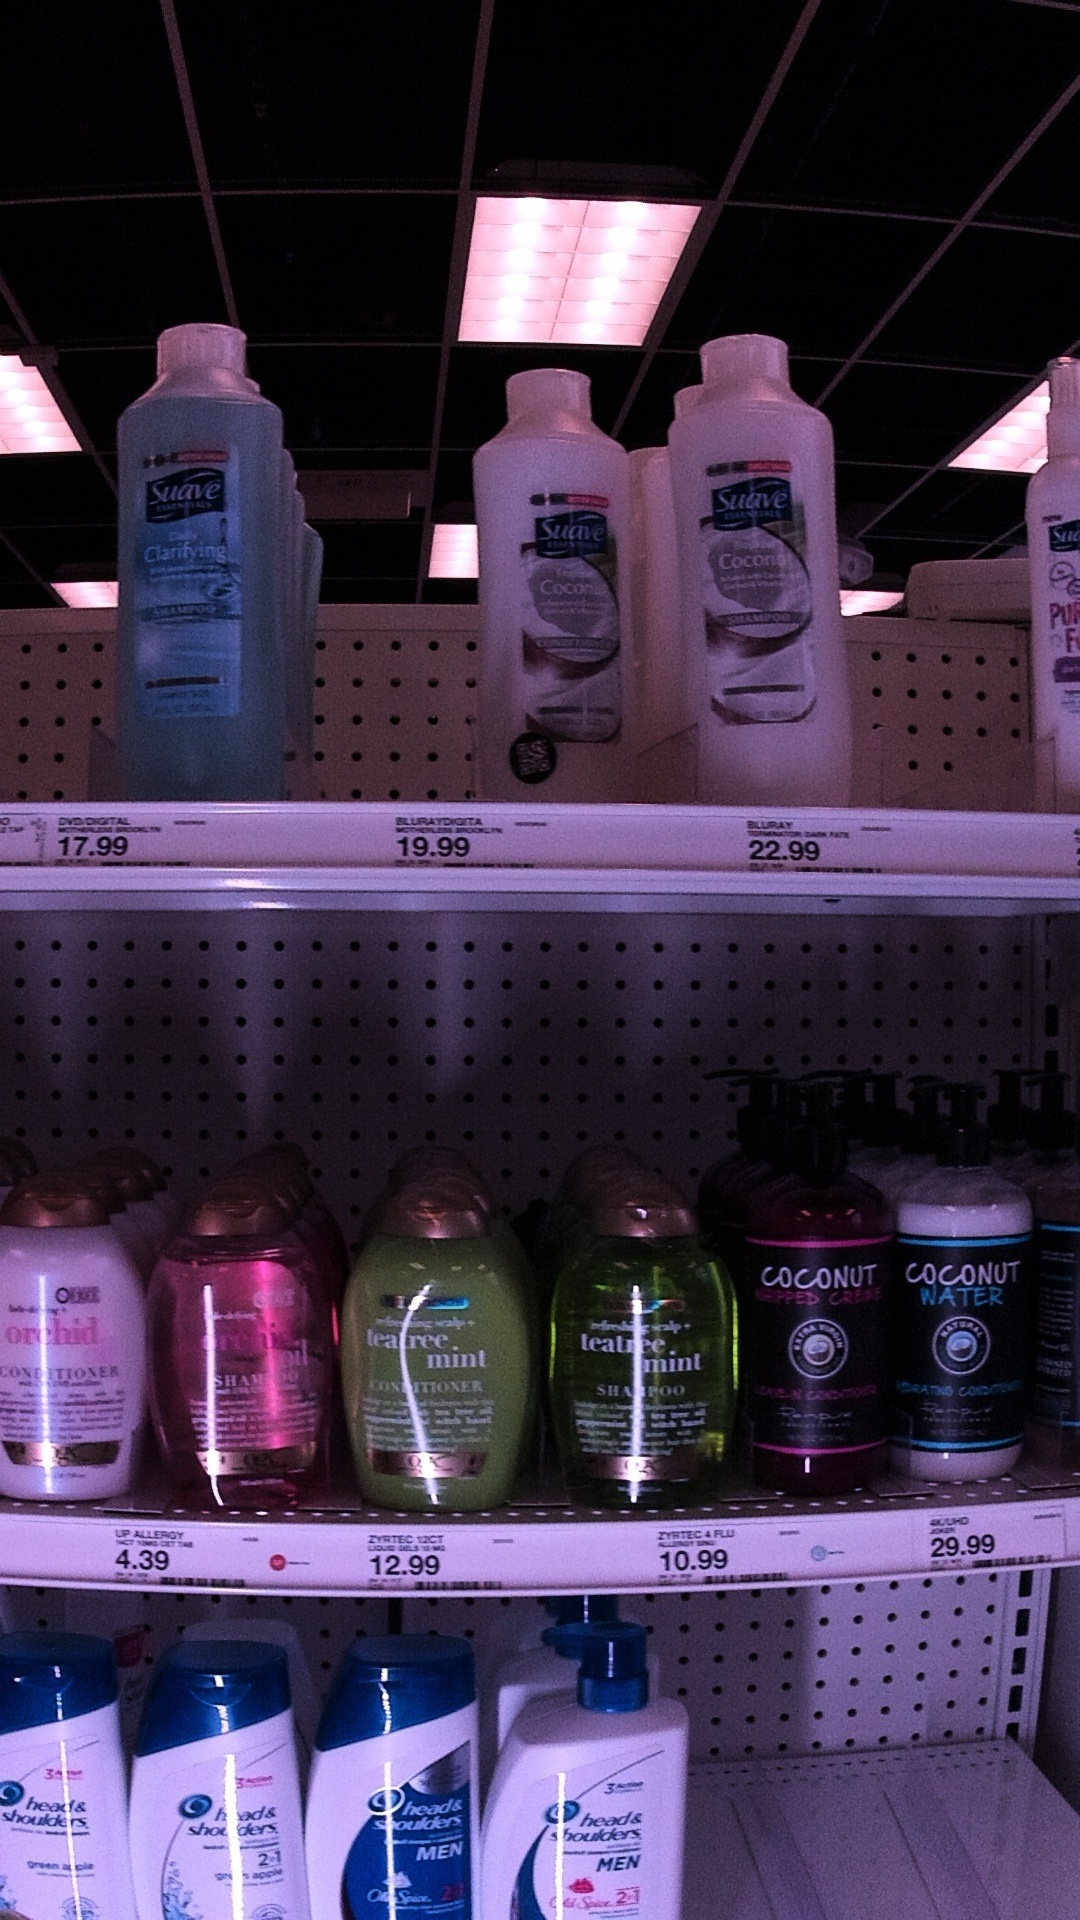ptag: (355, 1524, 538, 1602), (109, 1515, 260, 1600), (386, 802, 549, 873), (644, 1520, 798, 1593), (49, 808, 211, 876), (738, 814, 893, 880), (922, 1509, 1075, 1575)
